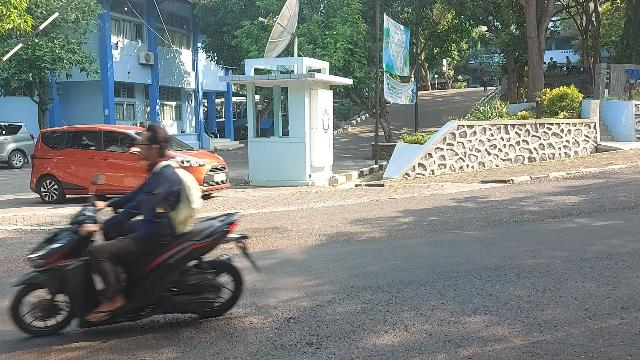motor: (12, 175, 263, 337)
non-helm: (138, 125, 172, 161)
